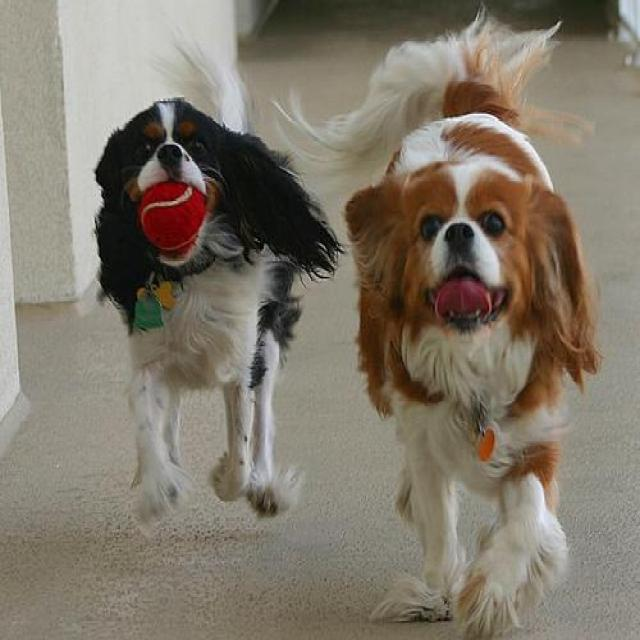blenheim_spaniel: (266, 0, 610, 637), (96, 97, 334, 532)
